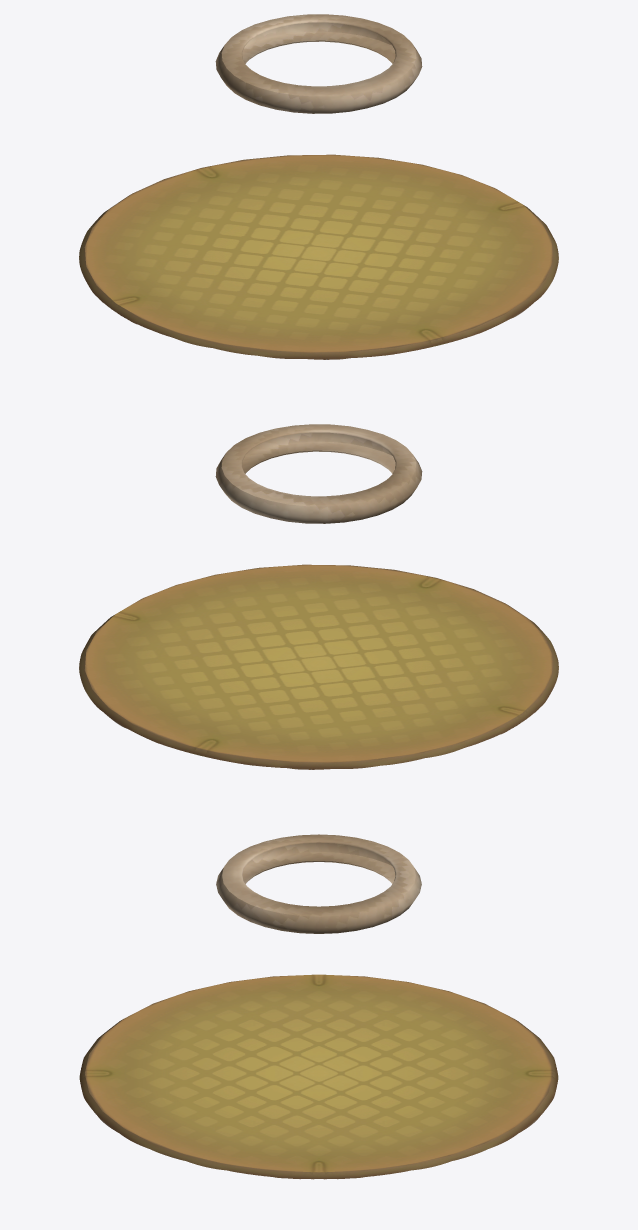
File: pref_TPC_v2_NeutralScoreArea03_yellow_amp_lv2.fbx
3 renders of one model, top to bottom at view 1: azimuth 30°, elevation 25°; view 2: azimuth 150°, elevation 25°; view 3: azimuth 270°, elevation 25°, orthographic.
Parts seen in each view (by area): view 1: sm_prop_platform06a_lv2, sm_prop_platform06b_lv2; view 2: sm_prop_platform06a_lv2, sm_prop_platform06b_lv2; view 3: sm_prop_platform06a_lv2, sm_prop_platform06b_lv2.
Boxes of the visible parts, x1,y1,x2,y2 form: sm_prop_platform06a_lv2: [79, 154, 558, 359]; sm_prop_platform06b_lv2: [215, 14, 422, 113]; sm_prop_platform06a_lv2: [79, 564, 558, 769]; sm_prop_platform06b_lv2: [215, 424, 422, 523]; sm_prop_platform06a_lv2: [79, 974, 558, 1179]; sm_prop_platform06b_lv2: [216, 834, 421, 933].
Bounding box in the file's own units: 7.46 × 2.88 × 7.46.
